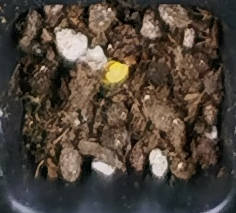pepper seed: (41, 21, 171, 104)
